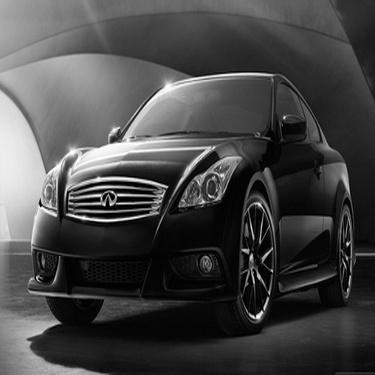car: (11, 58, 361, 333)
